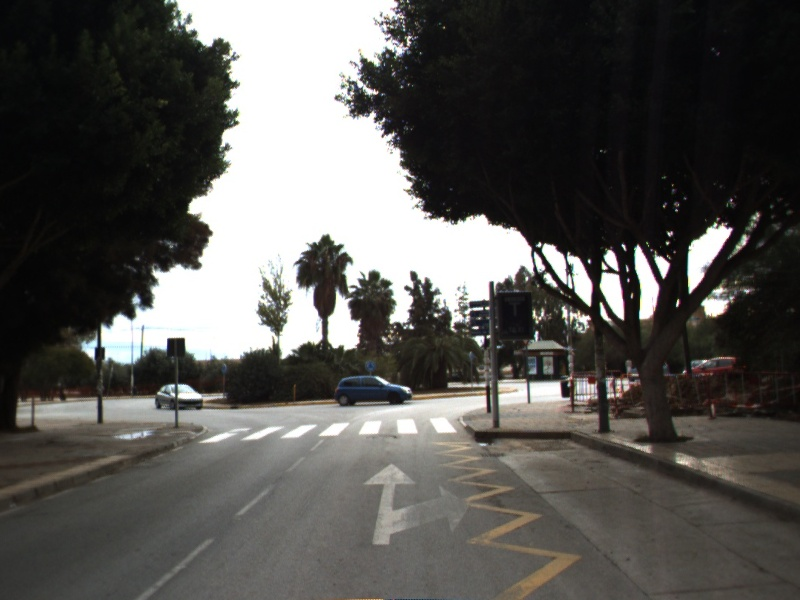STRAIGHT_RIGHT: (360, 461, 473, 547)
